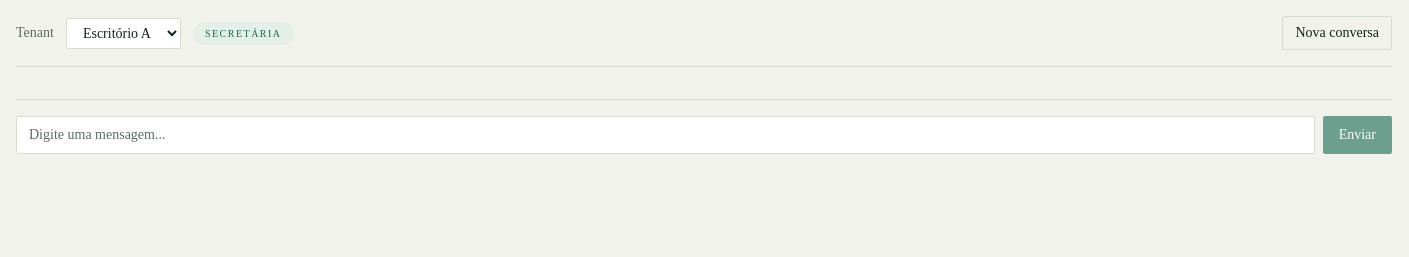
Scenario: AdminPlaygroundPanel › mostra aviso quando a mensagem é agrupada pelo debounce
Type "oi" into the field with placeholder "Digite uma mensagem..." at (665,135), box [16,116,1315,154]
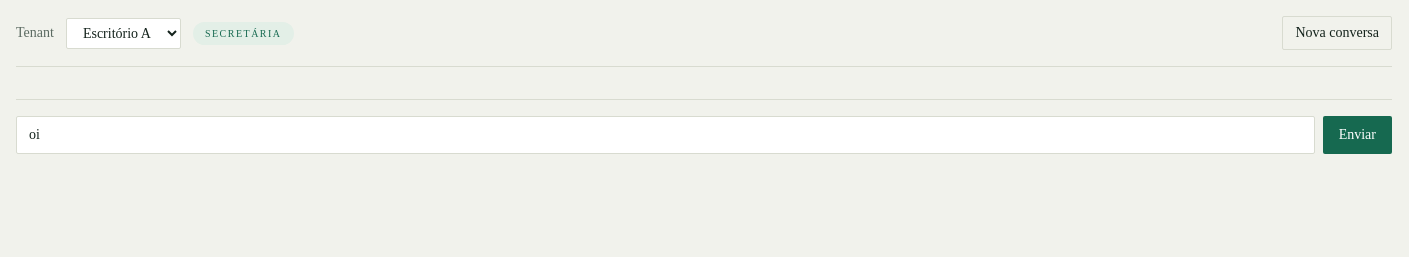
Click the button "Enviar" at (1357,135), box [1323,116,1392,154]
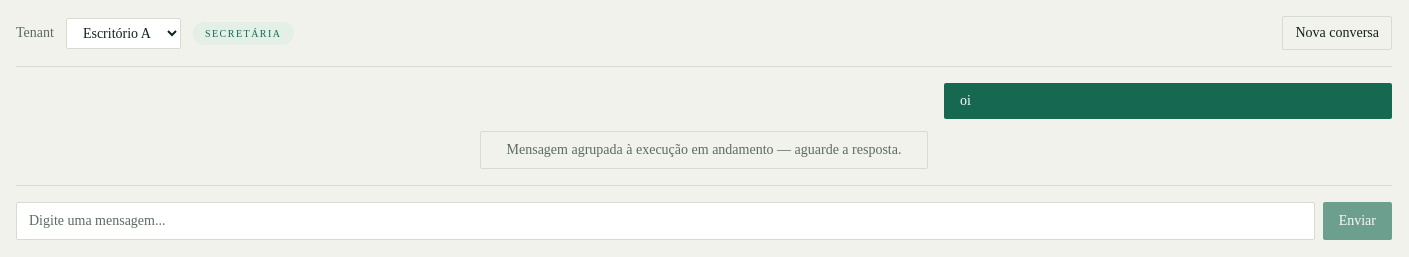
expect the text "agrupada à execução em andamento" is shown: met, box [506,142,901,157]
